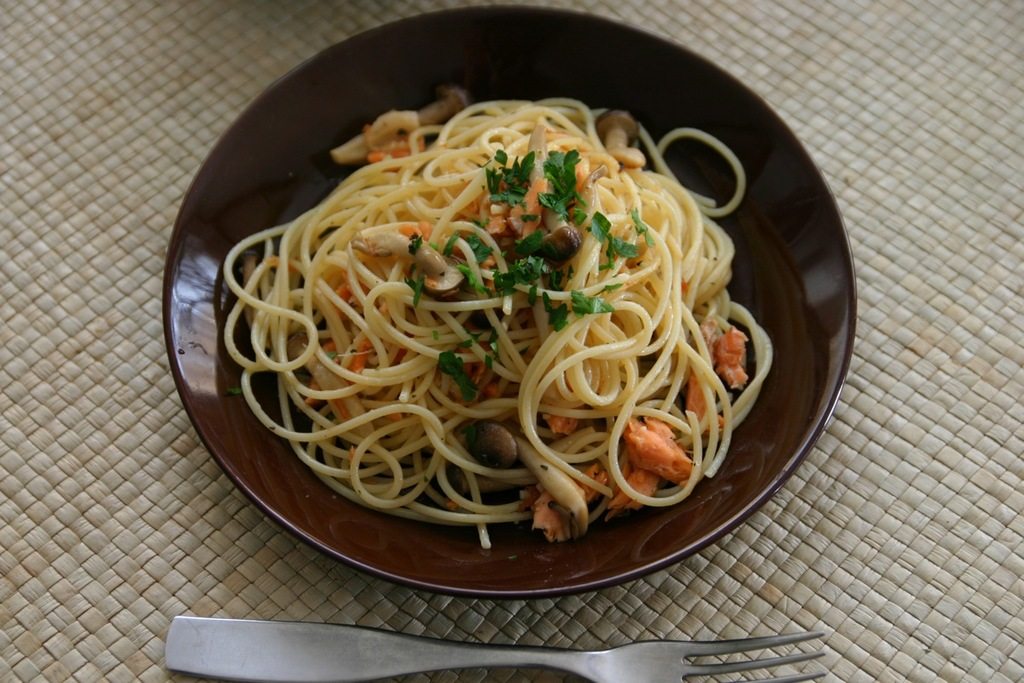pasta: (212, 90, 762, 569)
